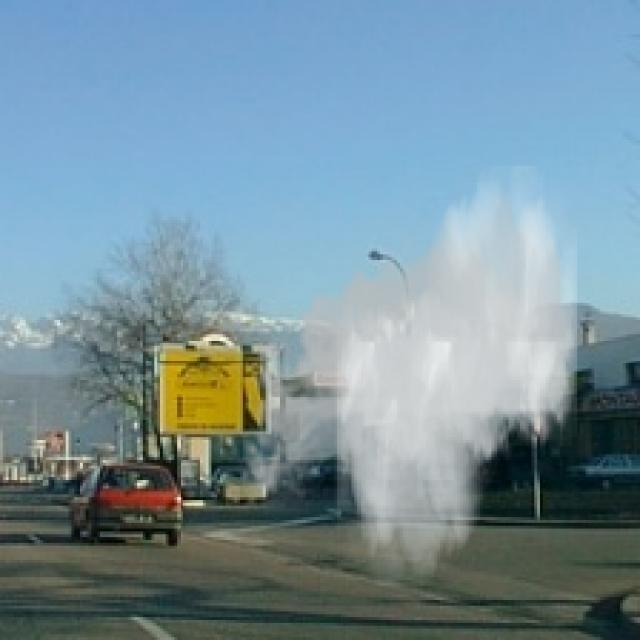smoke: (234, 165, 577, 586)
